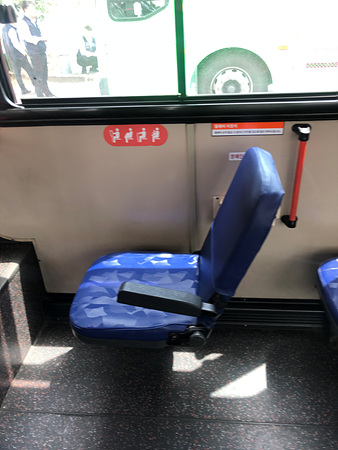seat: (70, 144, 286, 345)
